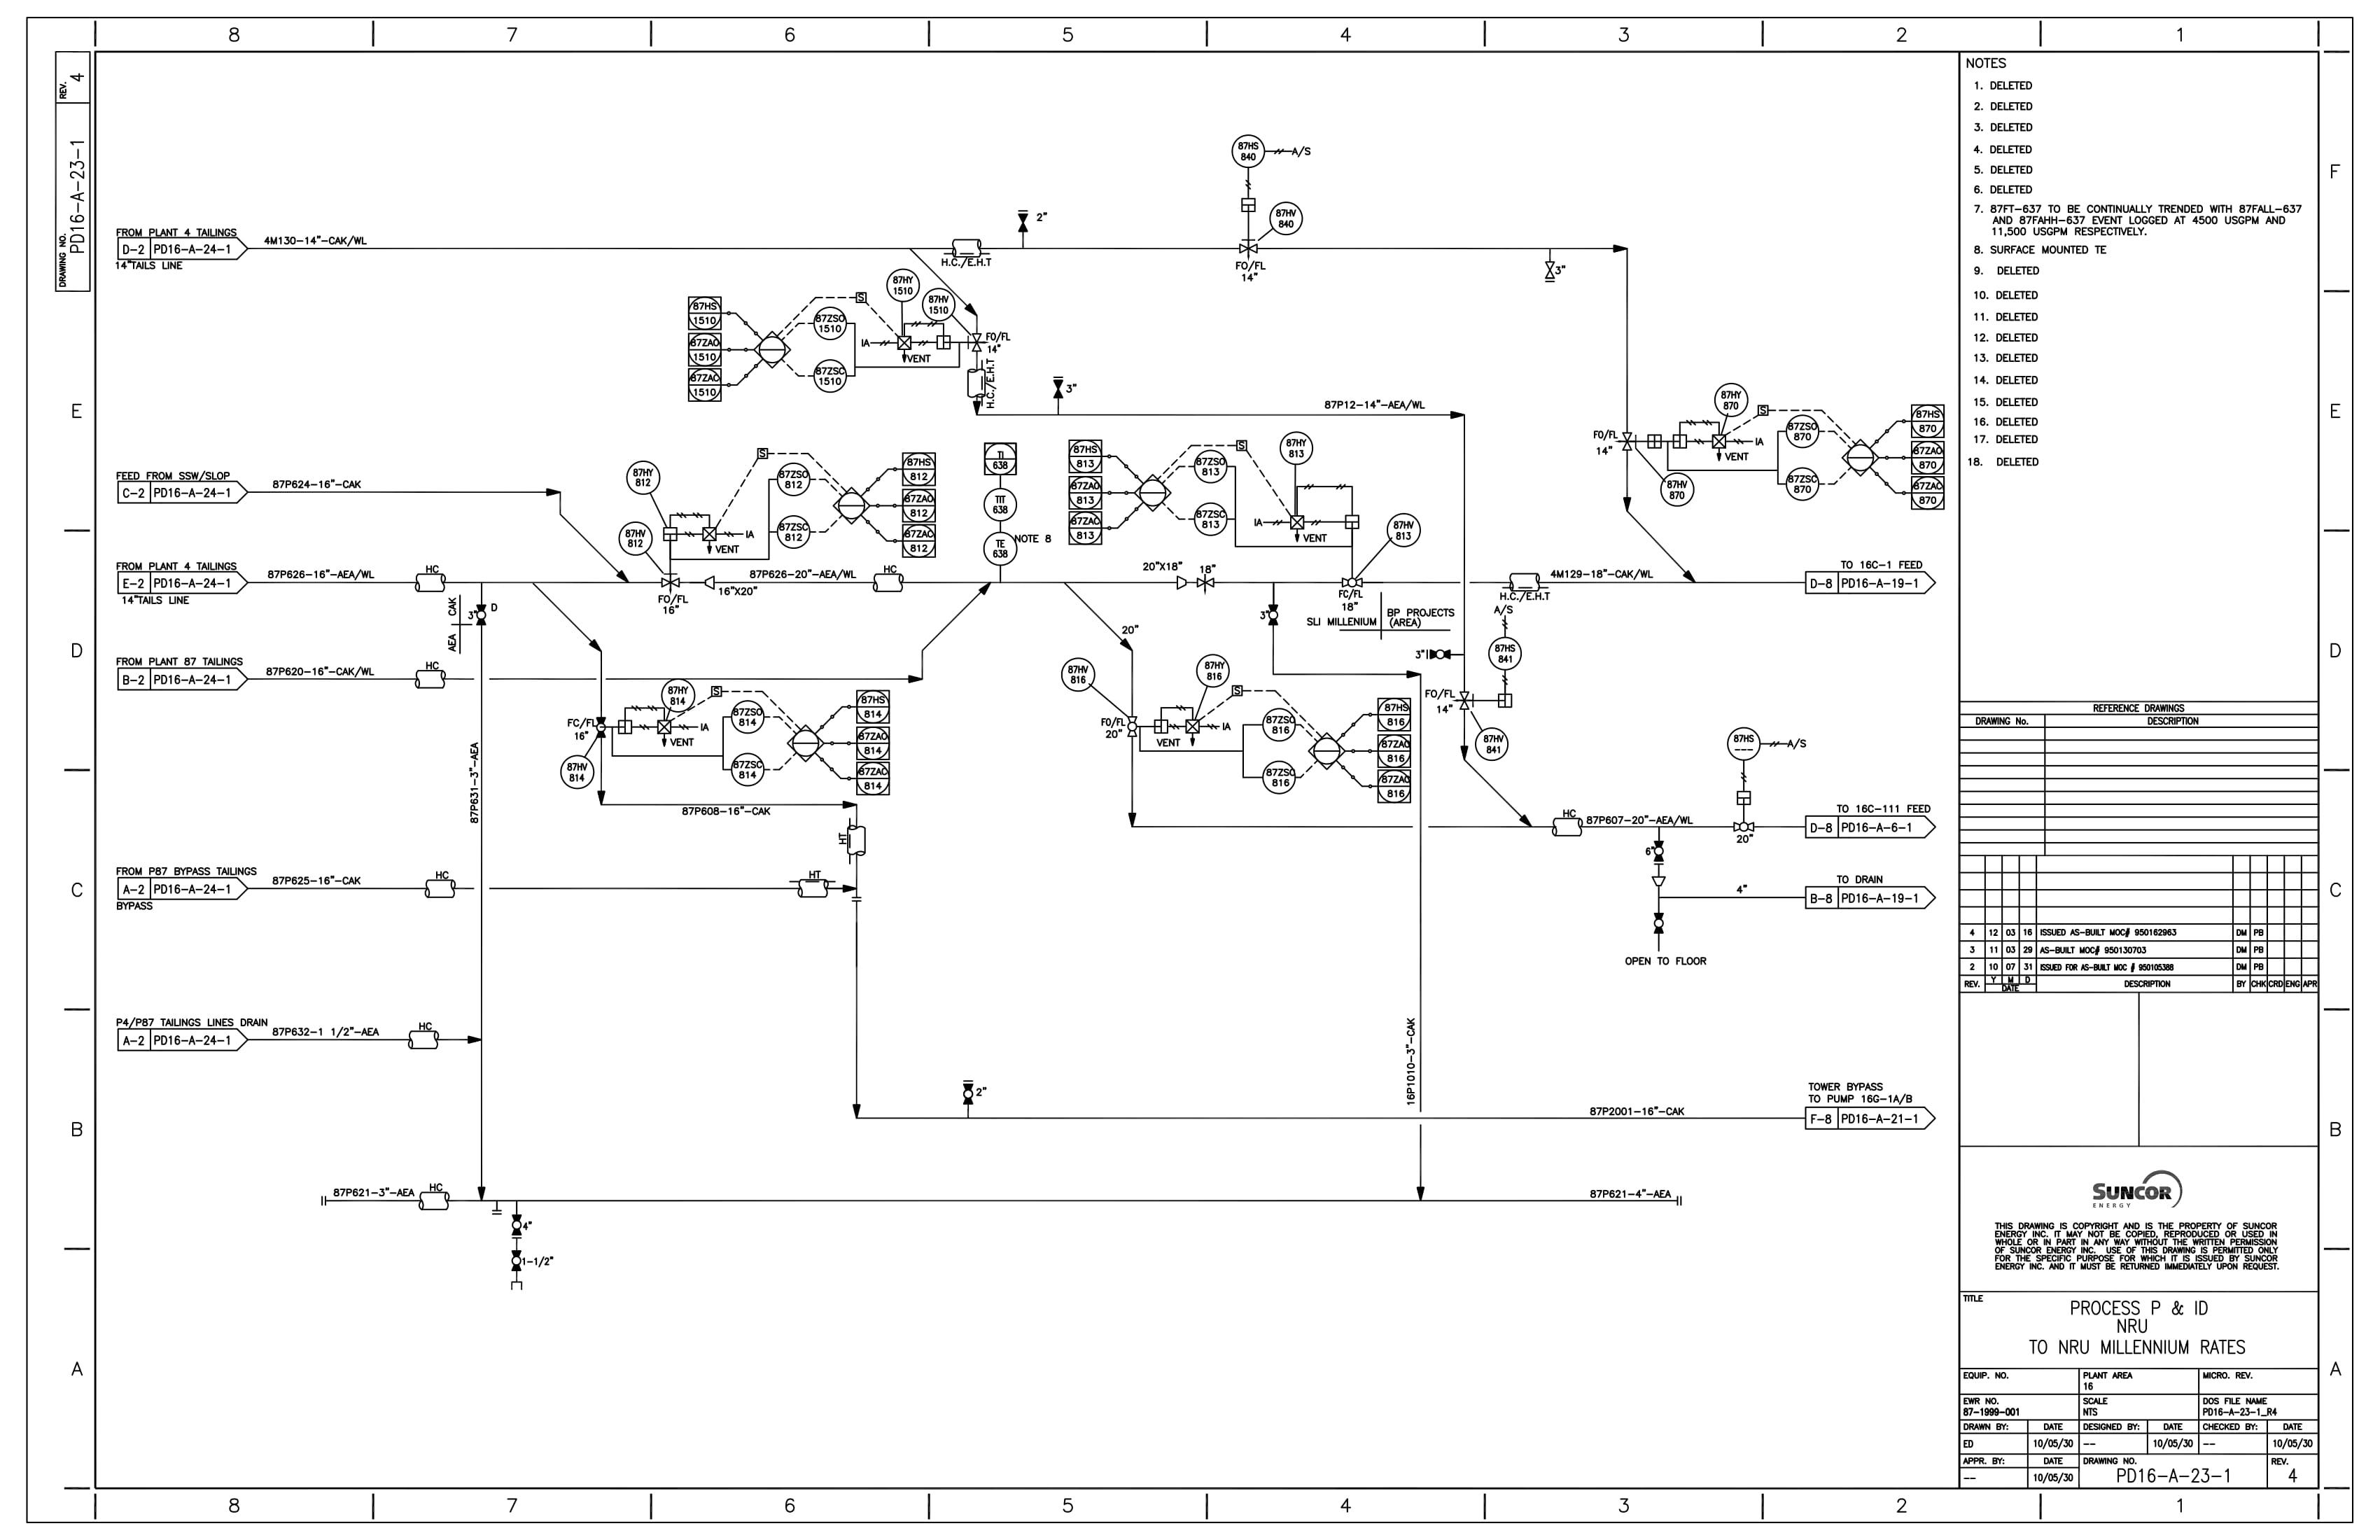Inline Instrument: (1273, 425, 1334, 475), (725, 749, 781, 796), (1381, 508, 1431, 558), (1185, 647, 1239, 692), (1707, 373, 1759, 418), (1223, 123, 1272, 170), (1481, 633, 1530, 680), (553, 751, 604, 793), (727, 699, 775, 741), (1473, 723, 1518, 767), (881, 264, 928, 305), (657, 675, 704, 716), (1058, 654, 1102, 697), (1272, 198, 1313, 243), (1258, 754, 1303, 796), (808, 357, 852, 399), (1782, 414, 1827, 454), (612, 519, 657, 557), (777, 513, 817, 553), (1785, 465, 1825, 505), (1658, 473, 1698, 512), (624, 458, 663, 498), (775, 463, 814, 501), (1263, 701, 1298, 742), (1193, 501, 1230, 538), (812, 309, 848, 338)
Panel Instrument: (1372, 765, 1422, 808), (680, 366, 729, 409), (1065, 508, 1114, 551), (897, 525, 947, 567), (897, 446, 949, 486), (1370, 728, 1419, 770), (1063, 435, 1110, 477), (852, 683, 899, 725), (852, 761, 900, 801), (1376, 694, 1422, 734), (682, 293, 729, 331)
